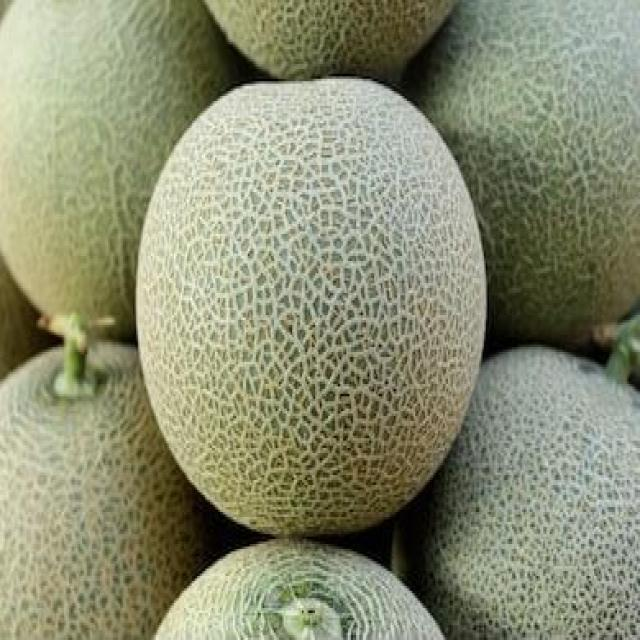cantaloupe: (139, 78, 486, 534)
